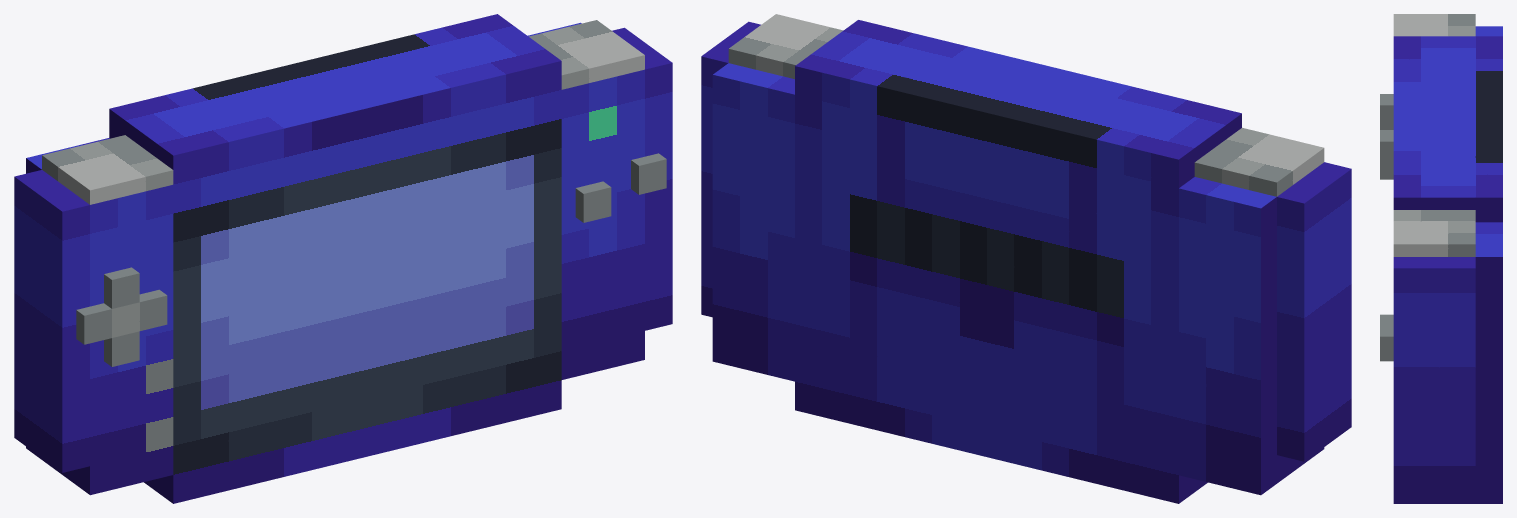
File: game_boy_advance.glb
The picture shows the model from 3 angles, left to right: view 1: azimuth 30°, elevation 25°; view 2: azimuth 150°, elevation 25°; view 3: azimuth 270°, elevation 25°; orthographic projection. The views are drawn at different scales.
Visible parts, largest first — view 1: Body_0, Right Side_1, Far Left_10, Left Side_2, Far Right_11, Left Trigger_4, Right Trigger_3, Middle D-Pad_6, Right_9, Left_8, Right D-Pad_7, Left D-Pad_5; view 2: Body_0, Left Side_2, Right Side_1, Far Left_10, Left Trigger_4, Right Trigger_3, Far Right_11; view 3: Body_0, Far Right_11, Right Side_1, Right Trigger_3, Left Trigger_4, Middle D-Pad_6, Left_8, Right D-Pad_7, Left Side_2, Left D-Pad_5, Right_9.
Part boxes in pixels (x1,y1,x2,y2): Body_0: [109, 14, 561, 503]; Right Side_1: [527, 22, 644, 379]; Far Left_10: [14, 170, 89, 472]; Left Side_2: [26, 138, 173, 495]; Far Right_11: [612, 27, 672, 330]; Left Trigger_4: [42, 135, 173, 204]; Right Trigger_3: [529, 20, 644, 89]; Middle D-Pad_6: [76, 289, 167, 344]; Right_9: [575, 181, 611, 222]; Left_8: [631, 153, 666, 194]; Right D-Pad_7: [104, 267, 139, 308]; Left D-Pad_5: [104, 331, 139, 366]; Body_0: [795, 20, 1241, 503]; Left Side_2: [1179, 177, 1324, 495]; Right Side_1: [712, 63, 794, 381]; Far Left_10: [1277, 162, 1351, 461]; Left Trigger_4: [1194, 127, 1324, 196]; Right Trigger_3: [728, 14, 843, 79]; Far Right_11: [701, 21, 760, 317]; Body_0: [1393, 36, 1502, 222]; Far Right_11: [1393, 257, 1475, 490]; Right Side_1: [1393, 222, 1502, 503]; Right Trigger_3: [1393, 210, 1475, 256]; Left Trigger_4: [1393, 14, 1475, 36]; Middle D-Pad_6: [1380, 130, 1393, 166]; Left_8: [1380, 325, 1393, 361]; Right D-Pad_7: [1380, 94, 1393, 129]; Left Side_2: [1475, 26, 1502, 36]; Left D-Pad_5: [1380, 166, 1393, 179]; Right_9: [1380, 314, 1393, 325].
Bounding box in the file's own units: 0.6875 × 0.375 × 0.1406.
Materials: 1 (1 with a texture image).
